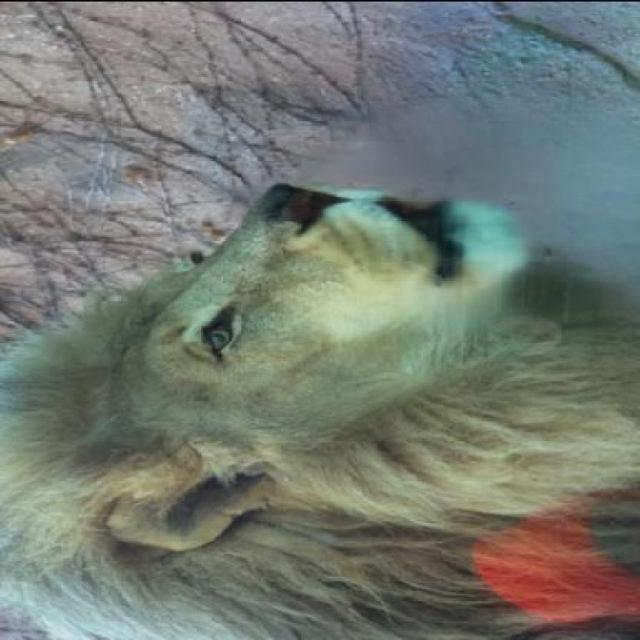Lion: (7, 174, 638, 638)
